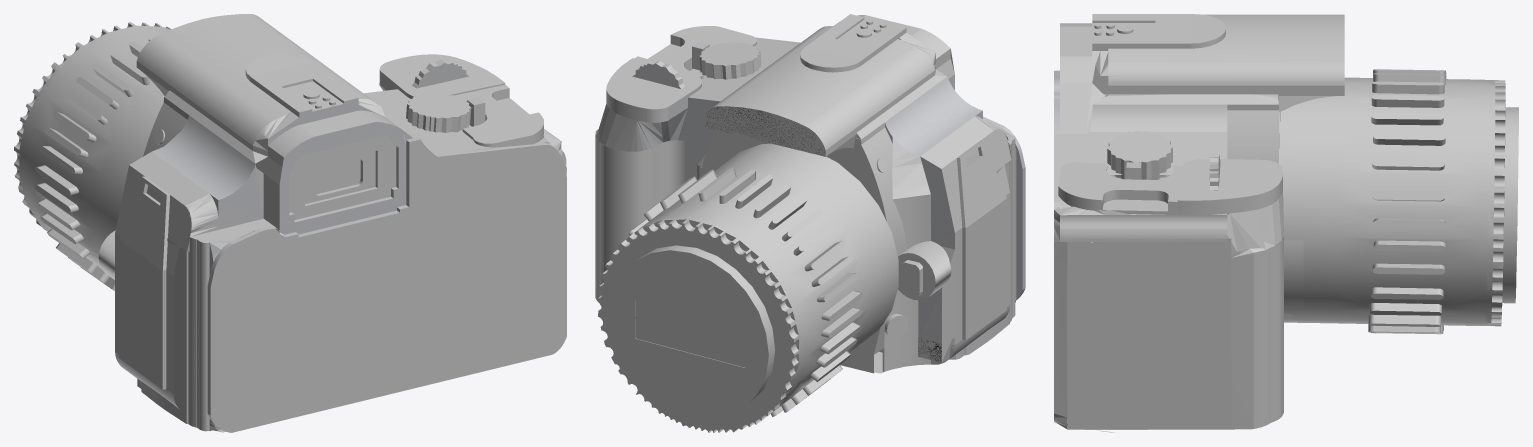
3 views of the same model, side by side, from view 1: azimuth 30°, elevation 25°; view 2: azimuth 150°, elevation 25°; view 3: azimuth 270°, elevation 25° (orthographic). The views are drawn at different scales.
Visible parts, largest first — view 1: mesh1_mesh1-geometry, mesh46_mesh46-geometry, mesh116_mesh116-geometry, mesh3_mesh3-geometry, mesh35_mesh35-geometry, mesh39_mesh39-geometry, mesh34_mesh34-geometry, mesh128_mesh128-geometry, mesh100_mesh100-geometry, mesh101_mesh101-geometry, mesh111_mesh111-geometry, mesh2_mesh2-geometry (+2 smaller); view 2: mesh46_mesh46-geometry, mesh100_mesh100-geometry, mesh116_mesh116-geometry, mesh3_mesh3-geometry, mesh35_mesh35-geometry, mesh39_mesh39-geometry, mesh128_mesh128-geometry, mesh4_mesh4-geometry, mesh101_mesh101-geometry, mesh56_mesh56-geometry, mesh34_mesh34-geometry, mesh1_mesh1-geometry (+7 smaller); view 3: mesh46_mesh46-geometry, mesh116_mesh116-geometry, mesh39_mesh39-geometry, mesh128_mesh128-geometry, mesh100_mesh100-geometry, mesh3_mesh3-geometry, mesh101_mesh101-geometry, mesh53_mesh53-geometry, mesh34_mesh34-geometry, mesh111_mesh111-geometry, mesh106_mesh106-geometry, mesh123_mesh123-geometry (+5 smaller).
Boxes of the visible parts, box(x1,y1,x2,y2) form: mesh1_mesh1-geometry: box(207, 137, 566, 432); mesh46_mesh46-geometry: box(115, 14, 566, 432); mesh116_mesh116-geometry: box(26, 30, 165, 283); mesh3_mesh3-geometry: box(137, 132, 406, 431); mesh35_mesh35-geometry: box(119, 176, 169, 389); mesh39_mesh39-geometry: box(379, 54, 543, 147); mesh34_mesh34-geometry: box(406, 93, 471, 132); mesh128_mesh128-geometry: box(103, 112, 263, 251); mesh100_mesh100-geometry: box(14, 22, 171, 231); mesh101_mesh101-geometry: box(95, 97, 163, 247); mesh111_mesh111-geometry: box(22, 28, 168, 230); mesh2_mesh2-geometry: box(412, 59, 469, 88); mesh46_mesh46-geometry: box(595, 14, 1016, 364); mesh100_mesh100-geometry: box(598, 217, 801, 432); mesh116_mesh116-geometry: box(628, 164, 871, 416); mesh3_mesh3-geometry: box(595, 130, 1015, 373); mesh35_mesh35-geometry: box(957, 140, 1006, 340); mesh39_mesh39-geometry: box(606, 26, 756, 122); mesh128_mesh128-geometry: box(721, 143, 898, 352); mesh4_mesh4-geometry: box(898, 241, 951, 300); mesh101_mesh101-geometry: box(714, 158, 878, 351); mesh56_mesh56-geometry: box(599, 105, 687, 151); mesh34_mesh34-geometry: box(699, 42, 761, 79); mesh1_mesh1-geometry: box(755, 37, 1025, 299); mesh46_mesh46-geometry: box(1054, 14, 1344, 429); mesh116_mesh116-geometry: box(1335, 69, 1481, 334); mesh39_mesh39-geometry: box(1058, 158, 1282, 215); mesh128_mesh128-geometry: box(1279, 97, 1323, 322); mesh100_mesh100-geometry: box(1484, 80, 1518, 326); mesh3_mesh3-geometry: box(1095, 213, 1283, 429); mesh101_mesh101-geometry: box(1319, 96, 1339, 323); mesh53_mesh53-geometry: box(1054, 242, 1094, 429); mesh34_mesh34-geometry: box(1107, 131, 1172, 179); mesh111_mesh111-geometry: box(1477, 79, 1488, 325); mesh106_mesh106-geometry: box(1484, 80, 1495, 311); mesh123_mesh123-geometry: box(1371, 287, 1443, 299).
Bounding box in the file's own units: 0.6167 × 0.4544 × 0.6428.
